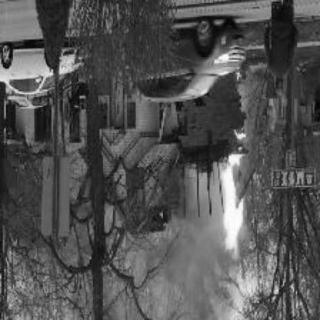Fire: (217, 154, 251, 256), (232, 127, 250, 145), (233, 68, 247, 85)
Smoke: (168, 179, 222, 289)
